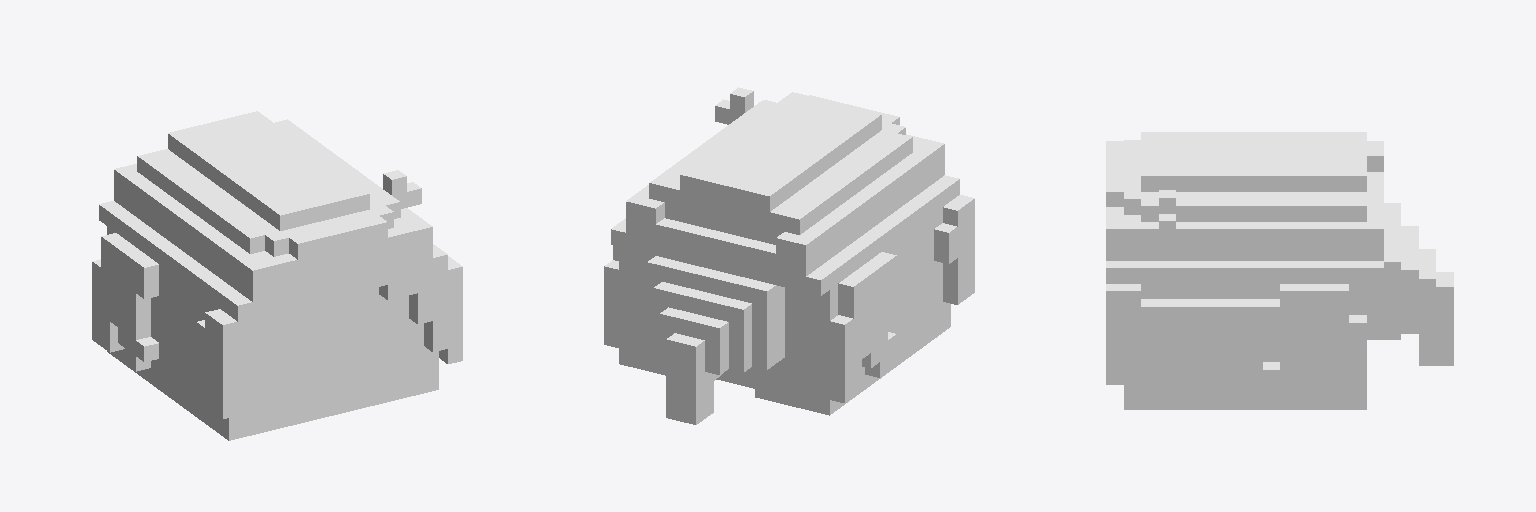
The model's file is Girl-1.obj.
The picture shows the model from 3 angles: view 1: azimuth 30°, elevation 25°; view 2: azimuth 150°, elevation 25°; view 3: azimuth 270°, elevation 25°; orthographic projection.
Parts seen in each view (by area): view 1: object 1; view 2: object 1; view 3: object 1.
Boxes of the visible parts, <box> form: object 1: <box>92,111,462,440</box>; object 1: <box>604,87,974,424</box>; object 1: <box>1106,132,1453,409</box>.
Size of the model in its own units: 1.6 by 1.3 by 2.